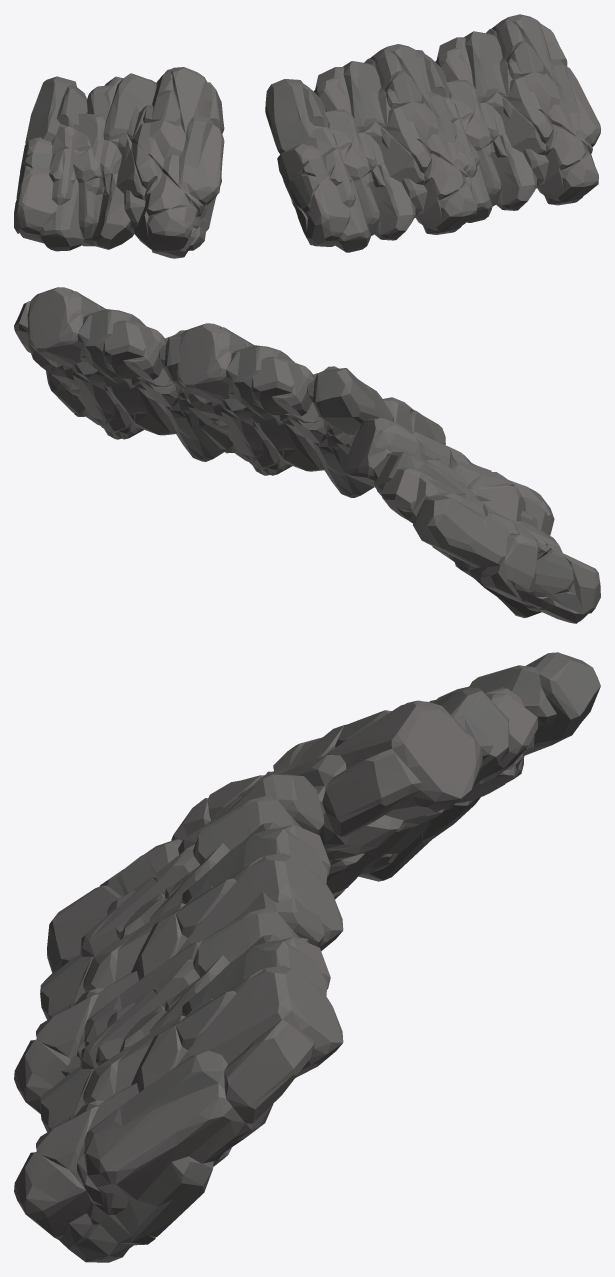
The model's file is Rocks.fbx.
The picture shows the model from 3 angles, top to bottom: view 1: azimuth 30°, elevation 25°; view 2: azimuth 150°, elevation 25°; view 3: azimuth 270°, elevation 25°; orthographic projection. The views are drawn at different scales.
Visible parts, largest first — view 1: rock_a; view 2: rock_a; view 3: rock_a.
Boxes of the visible parts, left/top/right/bottom form: rock_a: left=14, top=14, right=600, bottom=258; rock_a: left=14, top=287, right=600, bottom=623; rock_a: left=14, top=652, right=600, bottom=1262.
Size of the model in its own units: 1877 by 546 by 986.
1 material, 1 textured.
